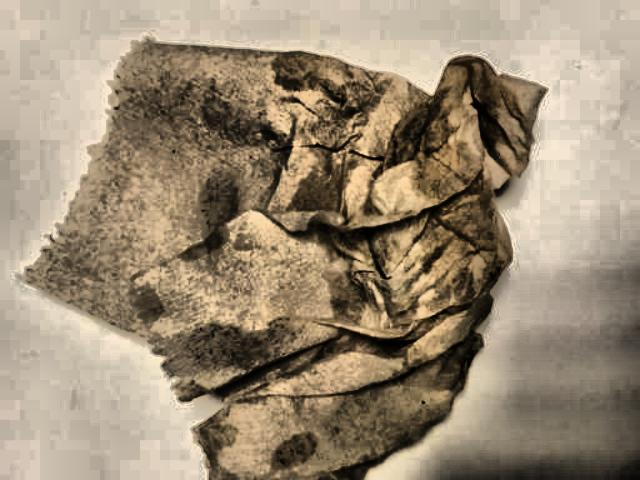Paper: (0, 11, 640, 479)
